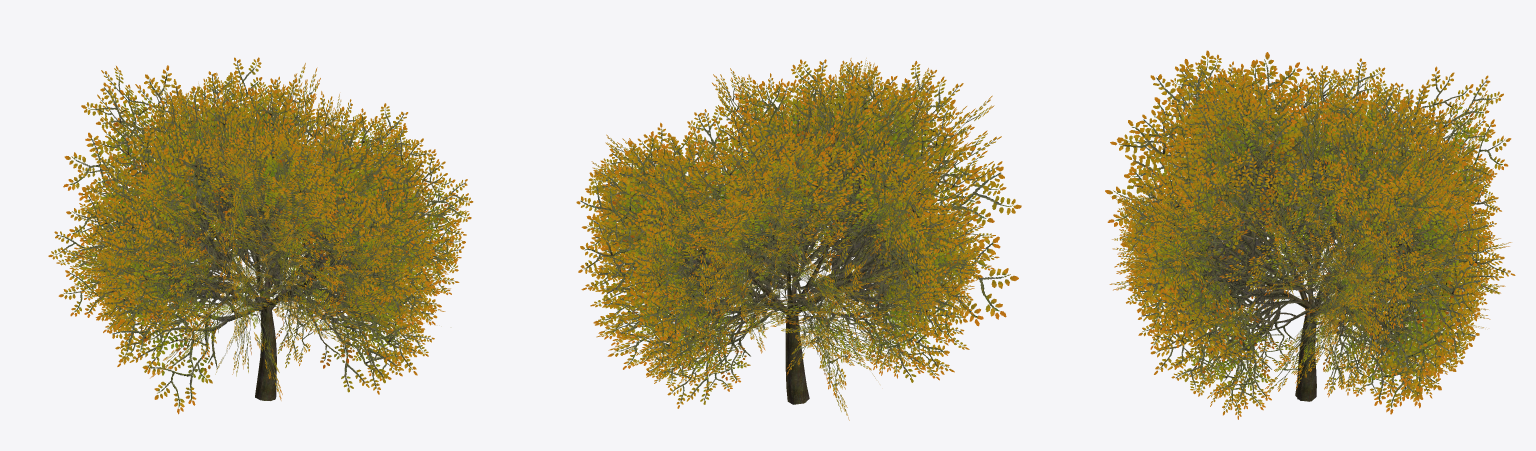
The model's file is far.glb.
3 renders of one model, left to right at view 1: azimuth 30°, elevation 25°; view 2: azimuth 150°, elevation 25°; view 3: azimuth 270°, elevation 25°, orthographic. The views are drawn at different scales.
Visible parts, largest first — view 1: lod1, lod2; view 2: lod1, lod2; view 3: lod1, lod2.
Boxes of the visible parts, x1,y1,x2,y2 form: lod1: [48, 57, 473, 400]; lod2: [63, 63, 453, 414]; lod1: [581, 58, 983, 420]; lod2: [576, 64, 1021, 402]; lod1: [1109, 54, 1501, 419]; lod2: [1105, 50, 1515, 414].
Size of the model in its own units: 72.02 by 56.83 by 67.6.
Materials: 2 (2 with a texture image).
